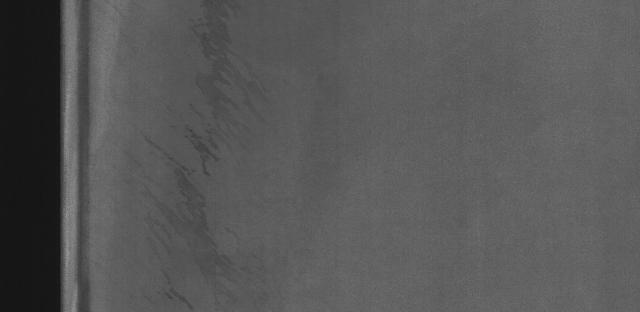water_spot: (137, 0, 276, 309)
